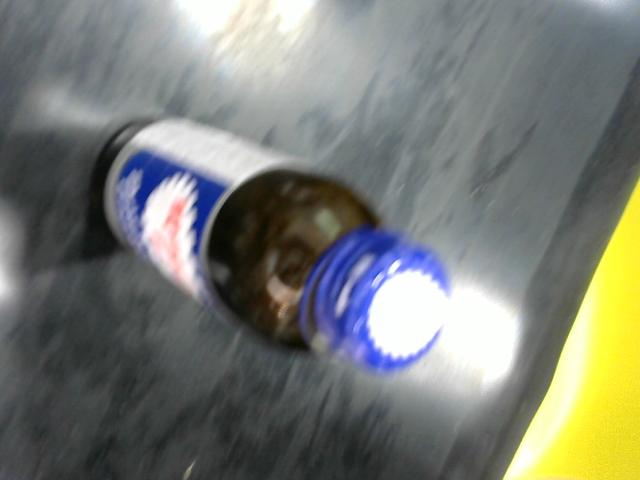glass: (79, 105, 460, 382)
